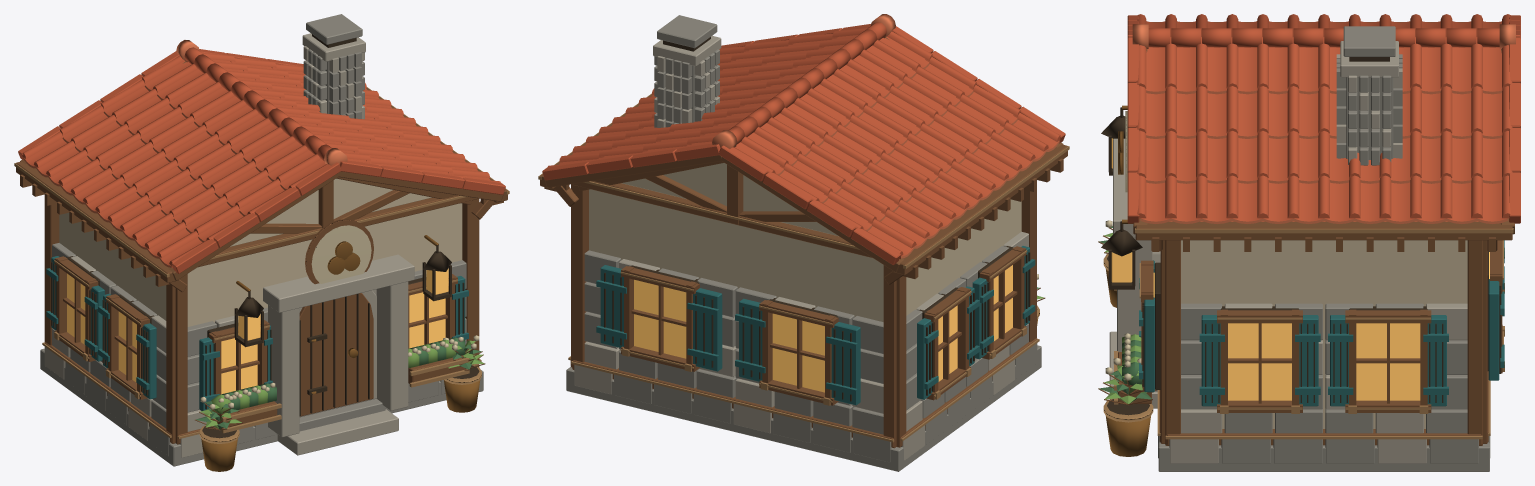
3 renders of one model, left to right at view 1: azimuth 30°, elevation 25°; view 2: azimuth 150°, elevation 25°; view 3: azimuth 270°, elevation 25°, orthographic. The views are drawn at different scales.
Visible parts, largest first — view 1: alpine_vault_bank_geometry, alpine_vault_bank_geometry ceramic; view 2: alpine_vault_bank_geometry, alpine_vault_bank_geometry ceramic; view 3: alpine_vault_bank_geometry, alpine_vault_bank_geometry ceramic.
Part boxes in pixels (left/top/right/bottom): alpine_vault_bank_geometry: left=14, top=14, right=509, bottom=471; alpine_vault_bank_geometry ceramic: left=18, top=40, right=505, bottom=273; alpine_vault_bank_geometry: left=538, top=15, right=1069, bottom=471; alpine_vault_bank_geometry ceramic: left=542, top=14, right=1065, bottom=264; alpine_vault_bank_geometry: left=1098, top=22, right=1514, bottom=471; alpine_vault_bank_geometry ceramic: left=1127, top=14, right=1520, bottom=223.
Size of the model in its own units: 1.04 by 0.9181 by 0.8874.
